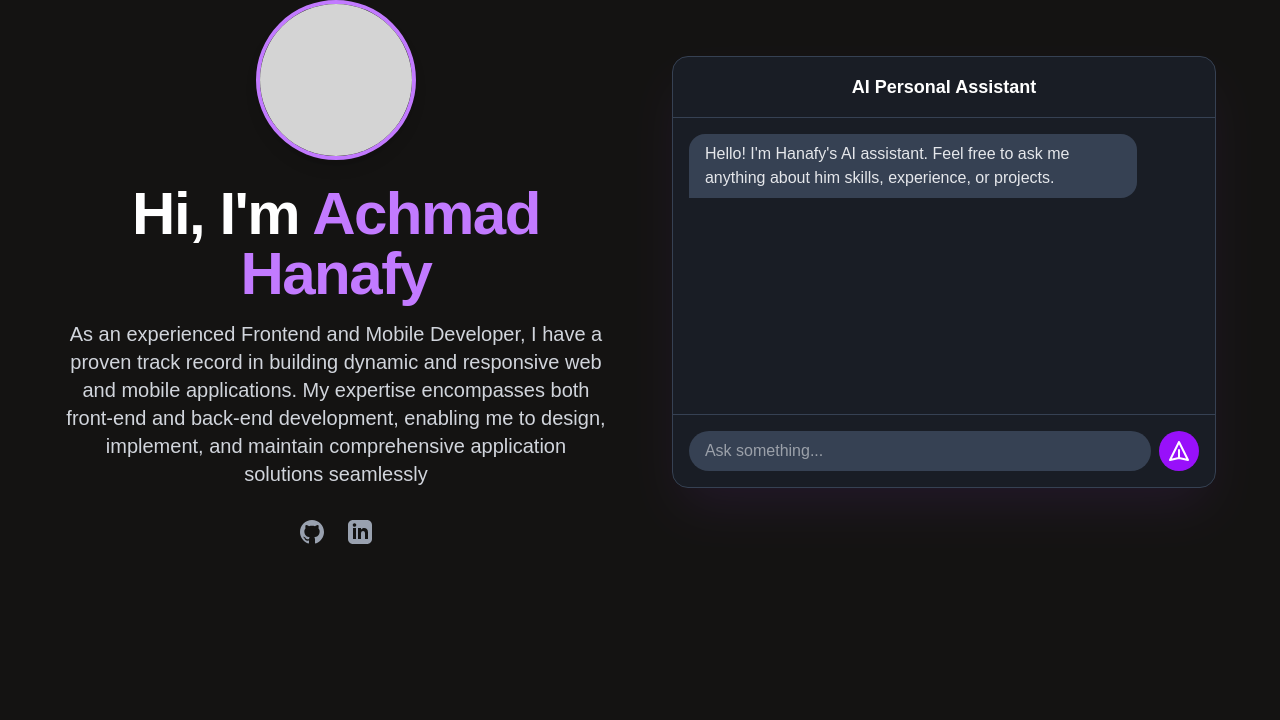
Test: HomeSection - AI Chatbot › AI responds after message sent
Type "What can you do?" into the field with placeholder "Ask something..." at (920, 451), box top-left (689, 431), bottom-right (1151, 471)
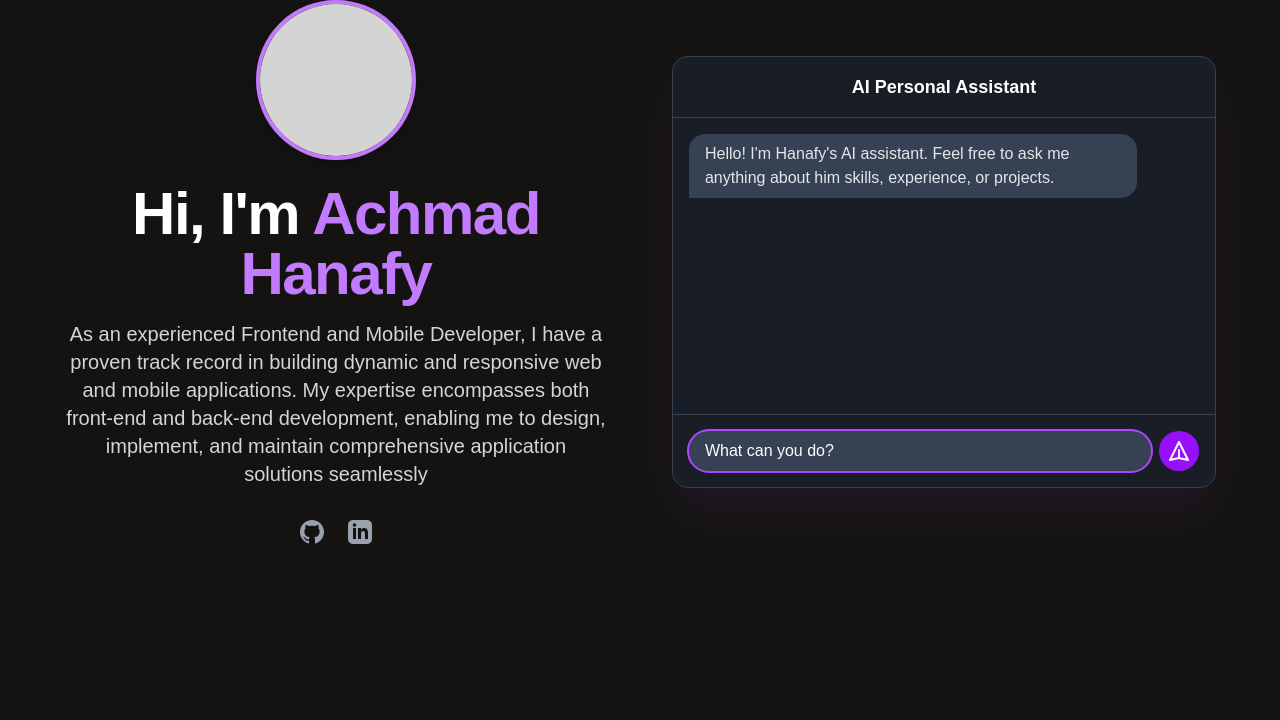
Submit the form from the button with test id "send-chatbot", box top-left (1159, 431), bottom-right (1199, 471)
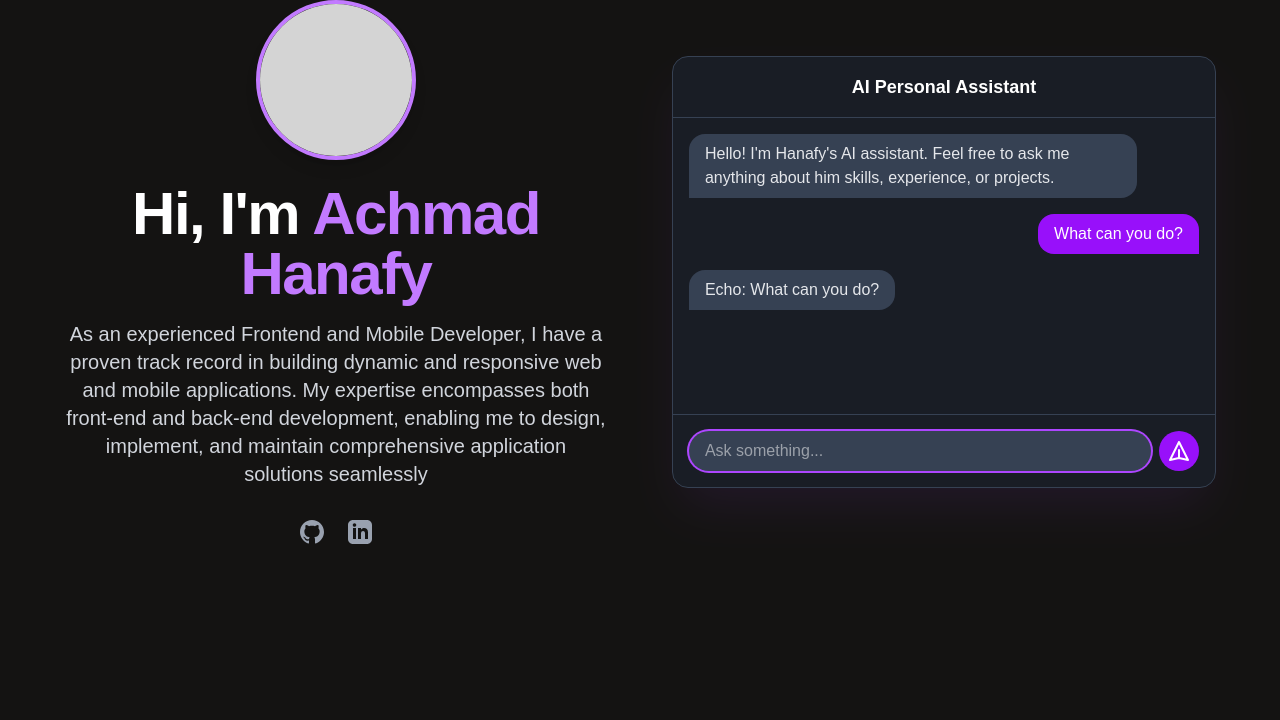
Check: the text "Echo: What can you do?" is shown, box top-left (689, 270), bottom-right (895, 310)
